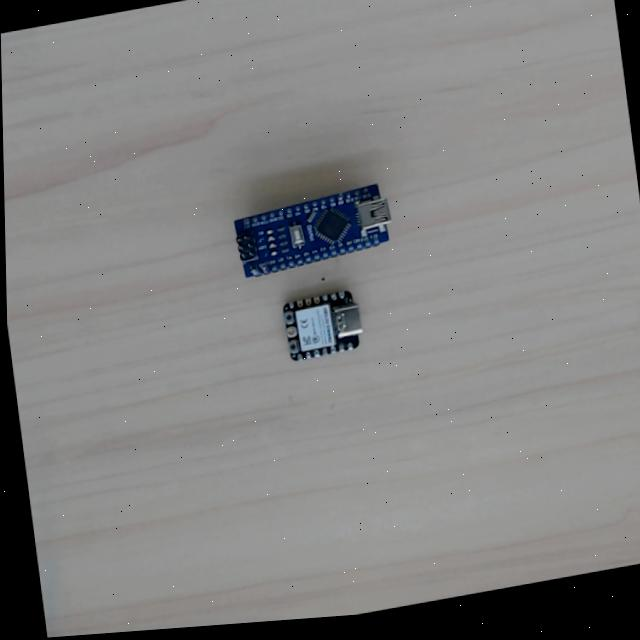Arduino-Nano: (230, 180, 396, 278)
ESP32C3-Xiao: (279, 286, 365, 360)
